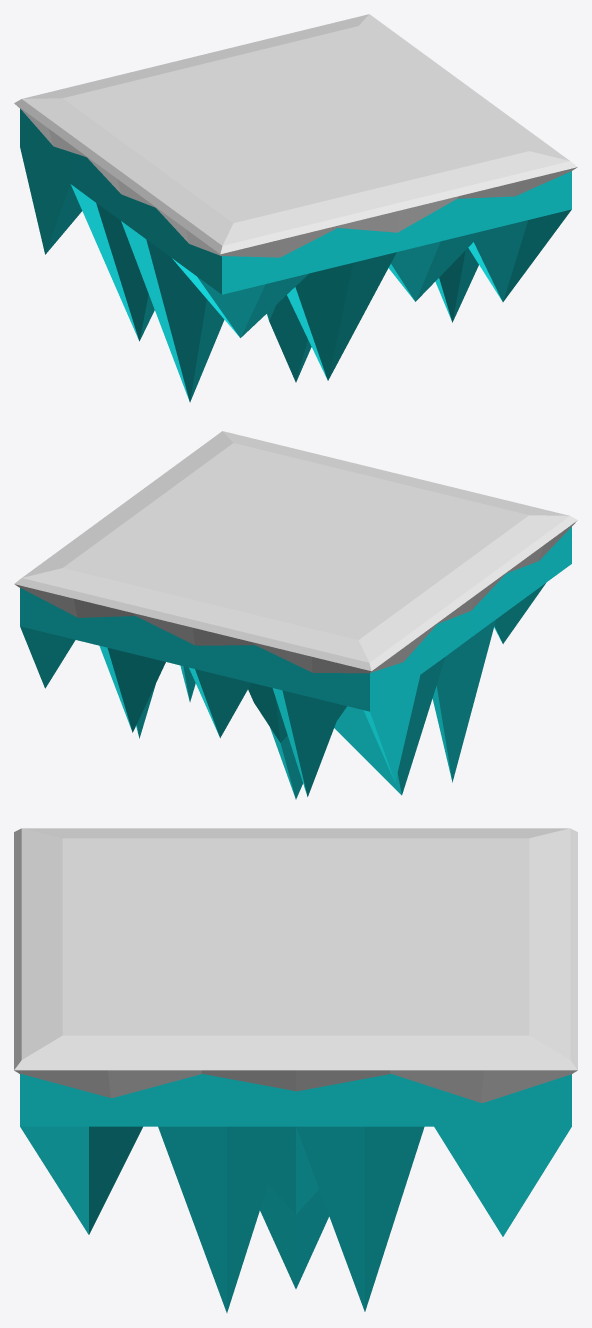
File: PlatformCJ.fbx
3 views of the same model, one above another, from view 1: azimuth 30°, elevation 25°; view 2: azimuth 150°, elevation 25°; view 3: azimuth 270°, elevation 25° (orthographic). The views are drawn at different scales.
Parts seen in each view (by area): view 1: Snow; view 2: Snow; view 3: Snow.
Part boxes in pixels (x1,y1,x2,y2): Snow: [14, 14, 577, 402]; Snow: [14, 431, 577, 799]; Snow: [14, 828, 577, 1312].
Size of the model in its own units: 409 by 282 by 409.
